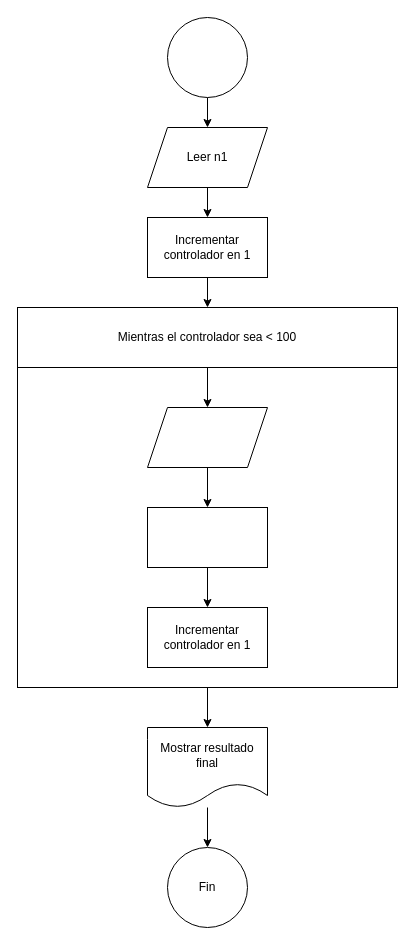
This 415x945 diagram has some shape labels left out. Here are the shapes that lost their labels. From the top down, the box of each, then its label:
(166, 16, 248, 98): Inicio
(146, 406, 268, 468): Leer n2
(146, 506, 268, 568): Sumar n2
